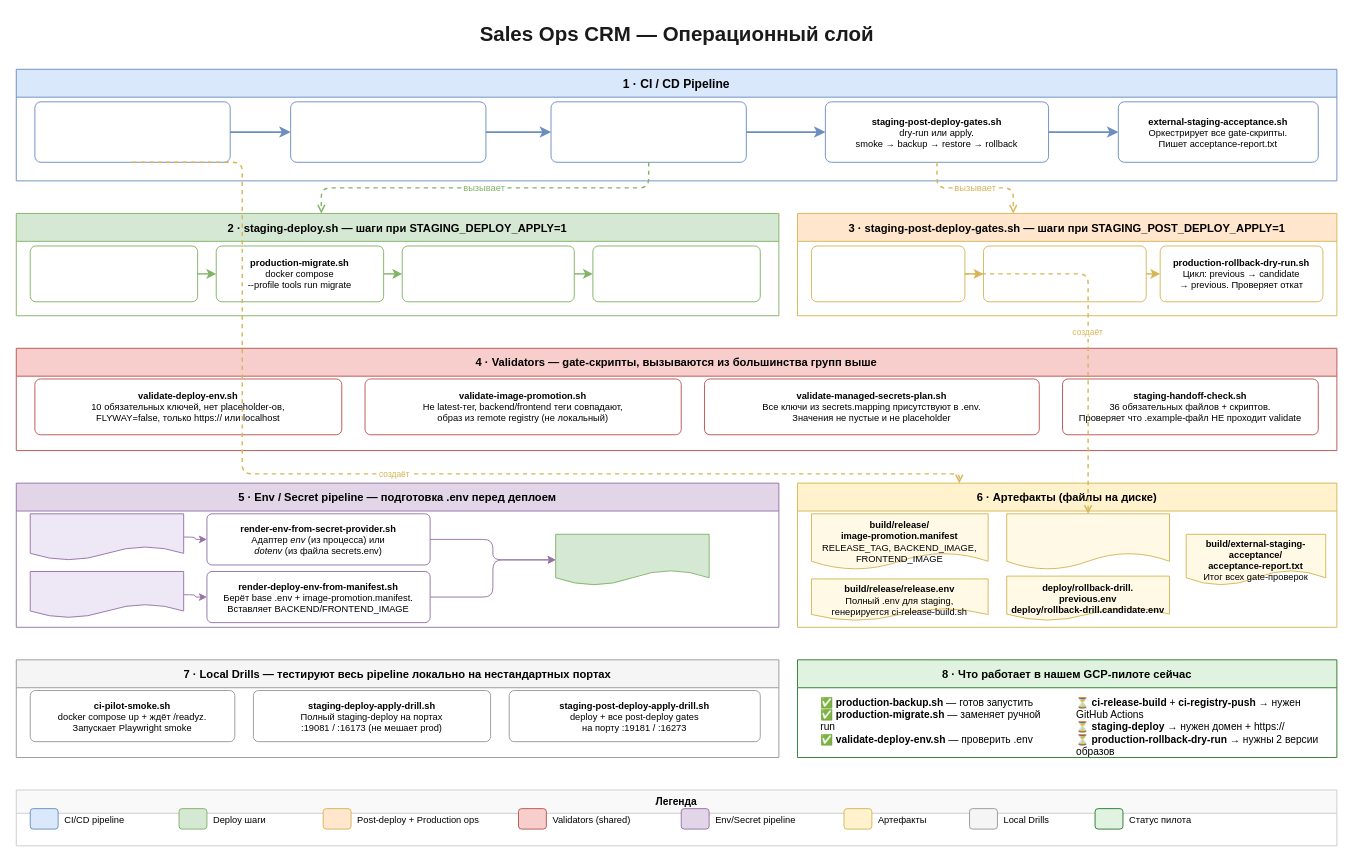
This 1353x862 diagram has some shape labels left out. Here are the shapes that lost their labels. From the top down, the centre of each, then its label:
At point (132, 131): "ci-release-build.sh Строит образы. Пишет manifest + release.env".
At point (388, 131): "ci-registry-push.sh Читает manifest. docker push в registry".
At point (648, 131): "staging-deploy.sh dry-run или apply. migrate → up → smoke".
At point (113, 273): "host-preflight-check.sh docker OK, порты свободны, .env chmod 600, нет localhost".
At point (487, 273): "reverse-proxy-tls-check.sh curl frontend + /readyz. Требует https://".
At point (676, 273): "deployment-smoke.sh Обёртка над npm run runtime:smoke".
At point (887, 273): "production-backup.sh pg_dump --format=custom → backups/*.dump".
At point (1064, 273): "production-restore-drill.sh pg_restore в throwaway DB. Проверяет Flyway версию".
At point (106, 536): ".env.staging.example Шаблон с REPLACE_WITH_SECRET".
At point (1087, 541): "backups/salesops- YYYYMMDDTHHMMSSZ.dump pg_dump --format=custom".
At point (632, 559): ".env.staging Готовый. chmod 600. Идёт в staging-deploy.sh".
At point (106, 594): "deploy/secrets.mapping.example POSTGRES_PASSWORD=secret://...".
